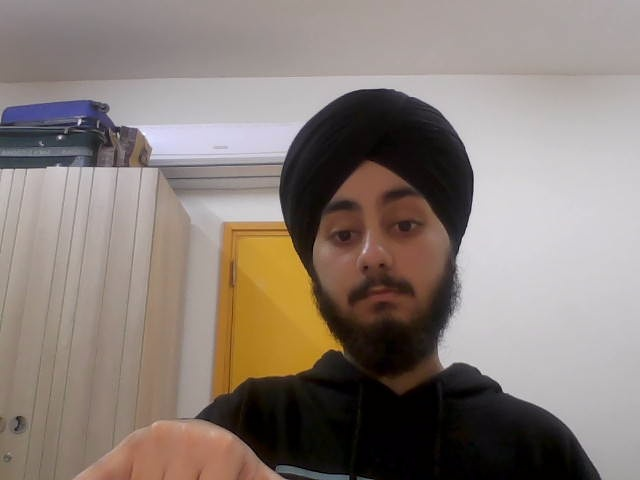Same: (70, 417, 290, 480)
